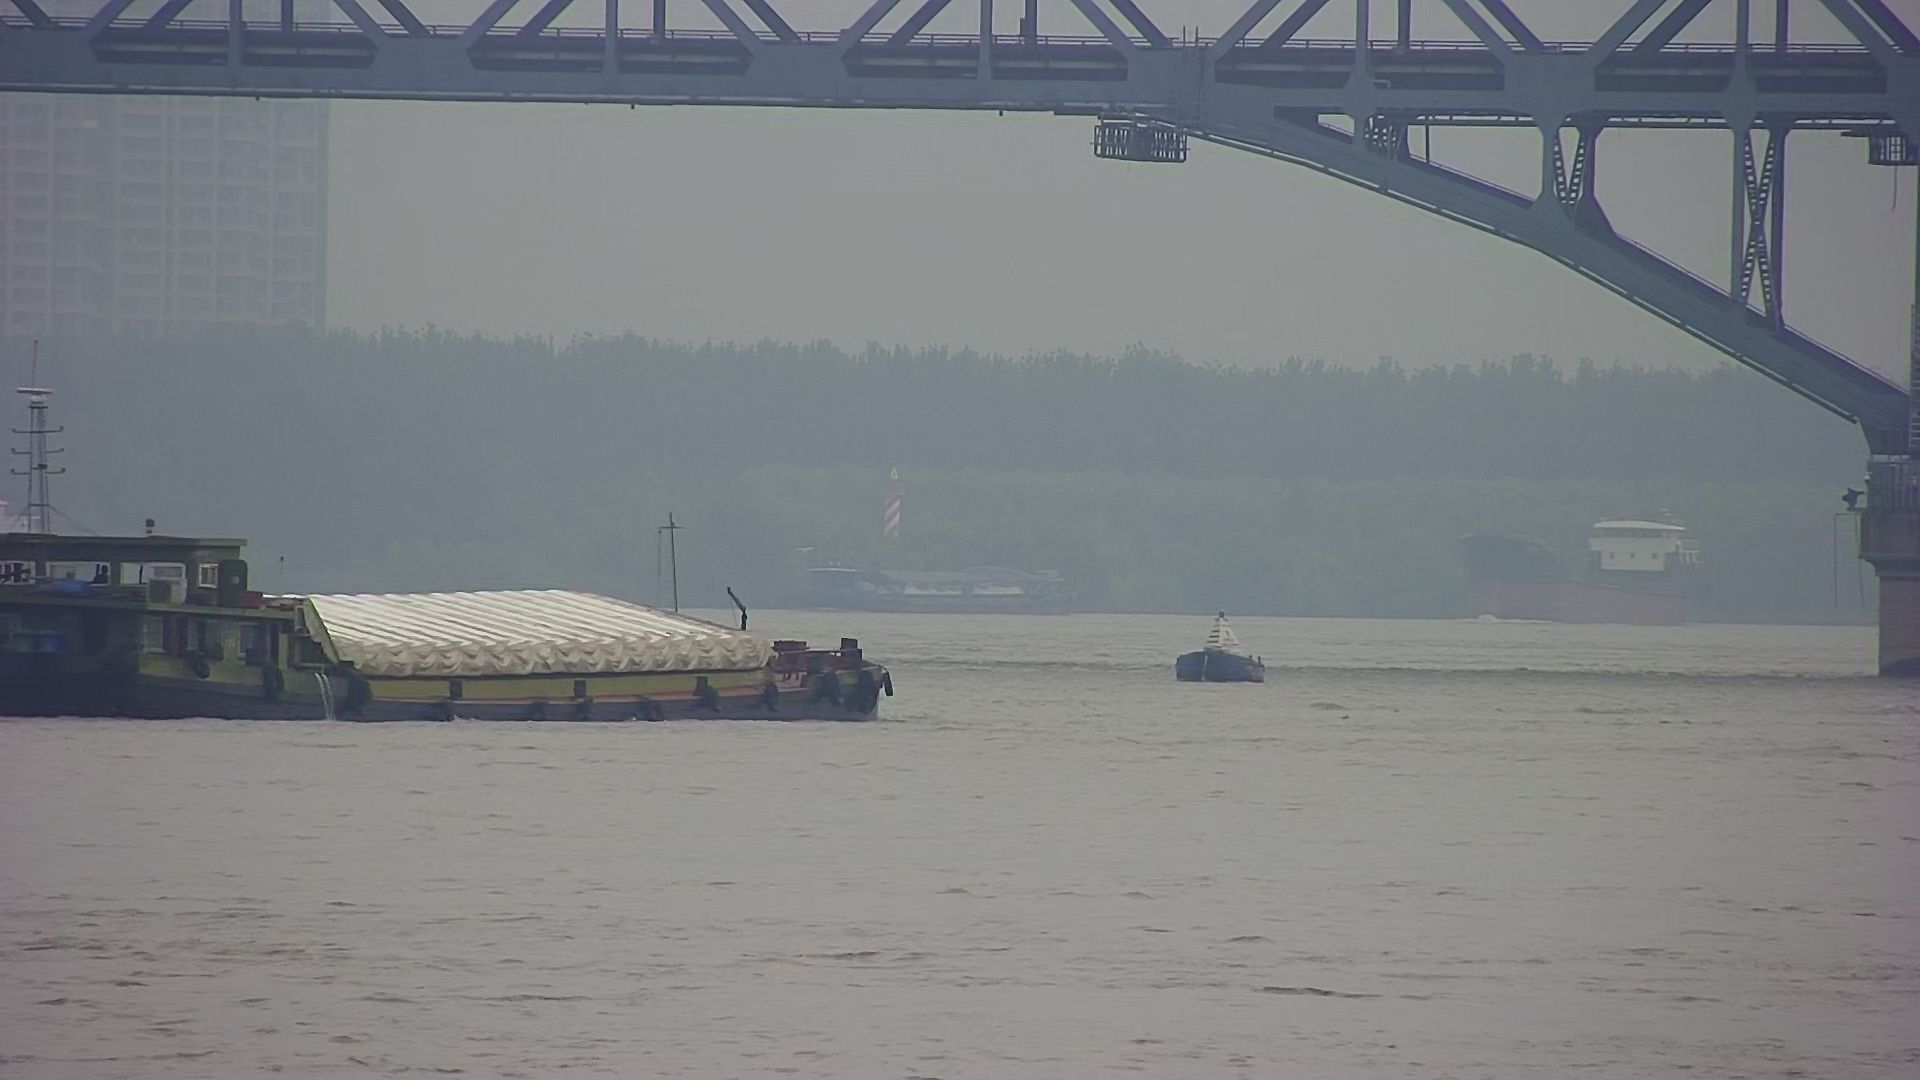boat: (1149, 599, 1288, 687)
bridge: (1, 1, 1920, 680)
ship: (1, 323, 915, 724), (1433, 480, 1738, 632), (758, 520, 1109, 622)
